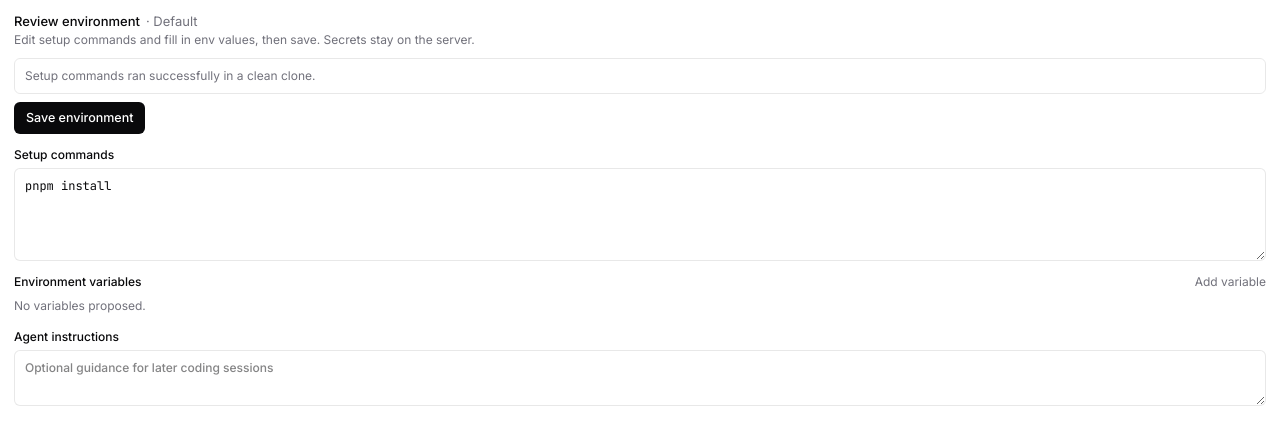
Scenario: EnvironmentReview › keeps the form when save fails after a successful load
Click the button "Save environment". click: (80, 118)
box: [14,102,146,134]
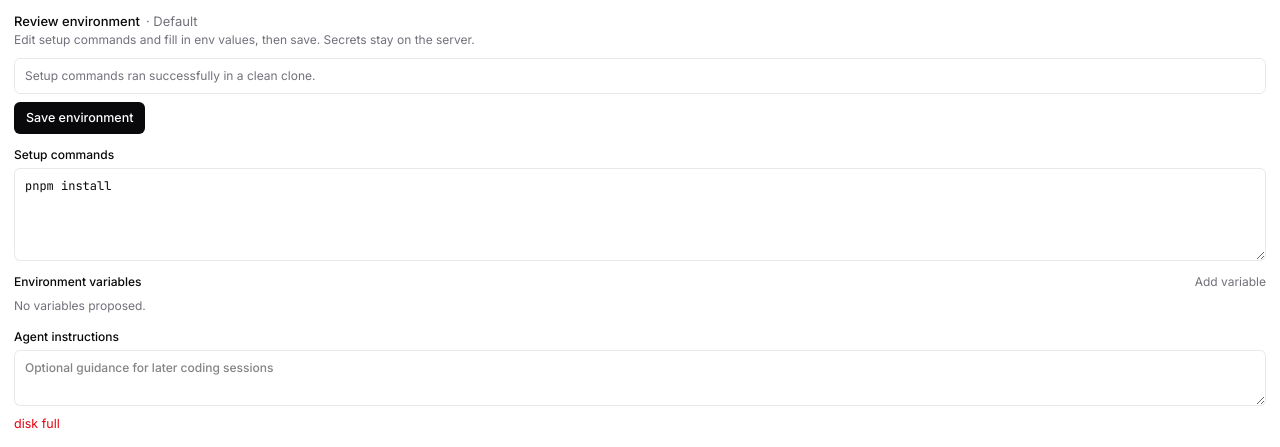
Check: the text box labelled "Setup commands" is shown, box [14,168,1266,261]
Check: the message "disk full" is shown, box [14,416,60,431]
